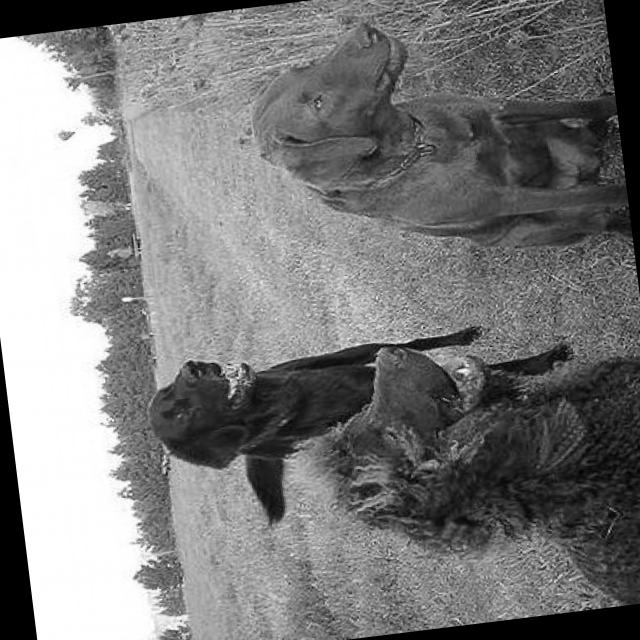sitting: (227, 0, 635, 303), (289, 307, 640, 640)
